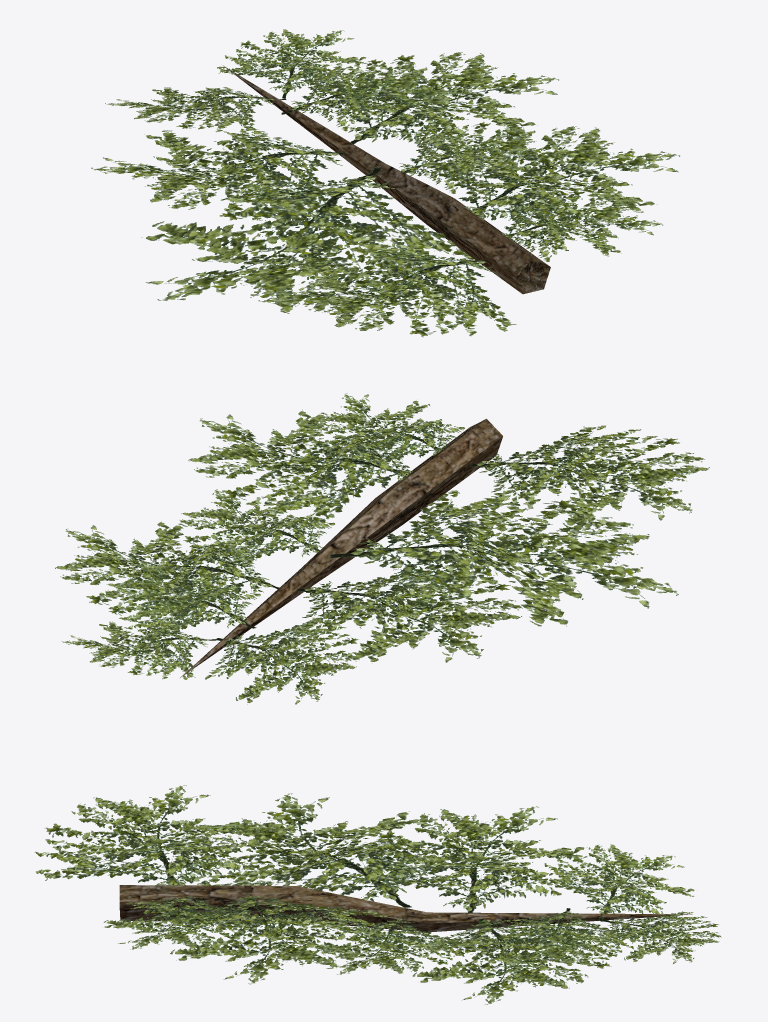
File: LowPolyElm1.fbx
3 renders of one model, top to bottom at view 1: azimuth 30°, elevation 25°; view 2: azimuth 150°, elevation 25°; view 3: azimuth 270°, elevation 25°, orthographic. The views are drawn at different scales.
Visible parts, largest first — view 1: Cylinder; view 2: Cylinder; view 3: Cylinder.
Part boxes in pixels (x1=…): Cylinder: x1=91, y1=29, x2=679, y2=337; Cylinder: x1=55, y1=393, x2=709, y2=704; Cylinder: x1=34, y1=785, x2=721, y2=1004.
Size of the model in its own units: 94.85 by 8.51 by 116.
